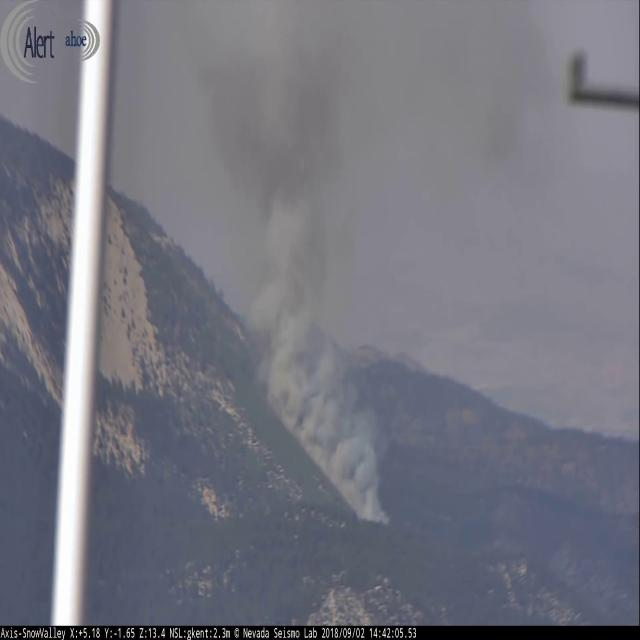smoke: (190, 0, 407, 537)
